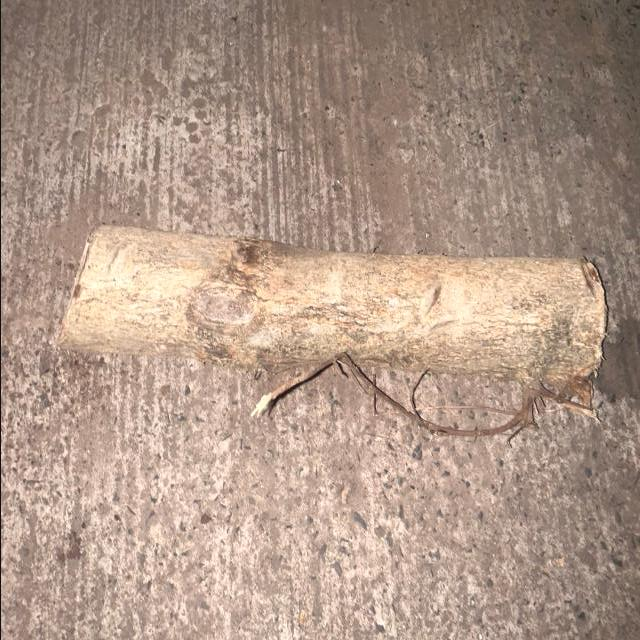General: (1, 1, 640, 640)
Infectious: (58, 223, 610, 443)
